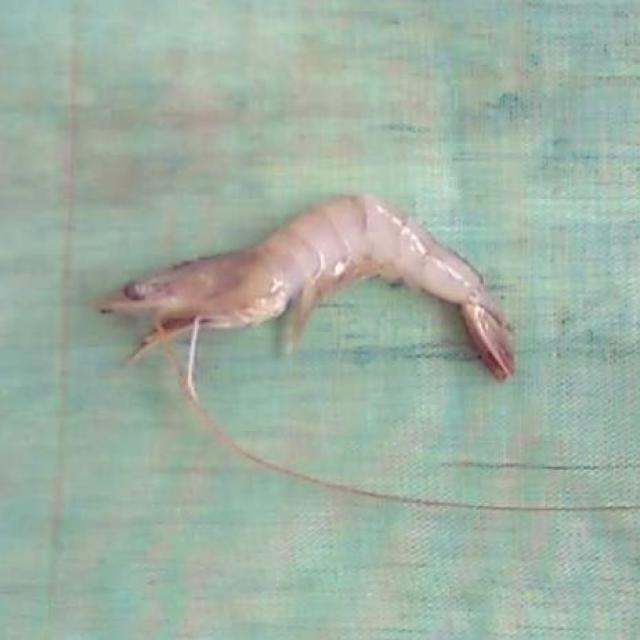shrimp: (95, 195, 514, 379)
